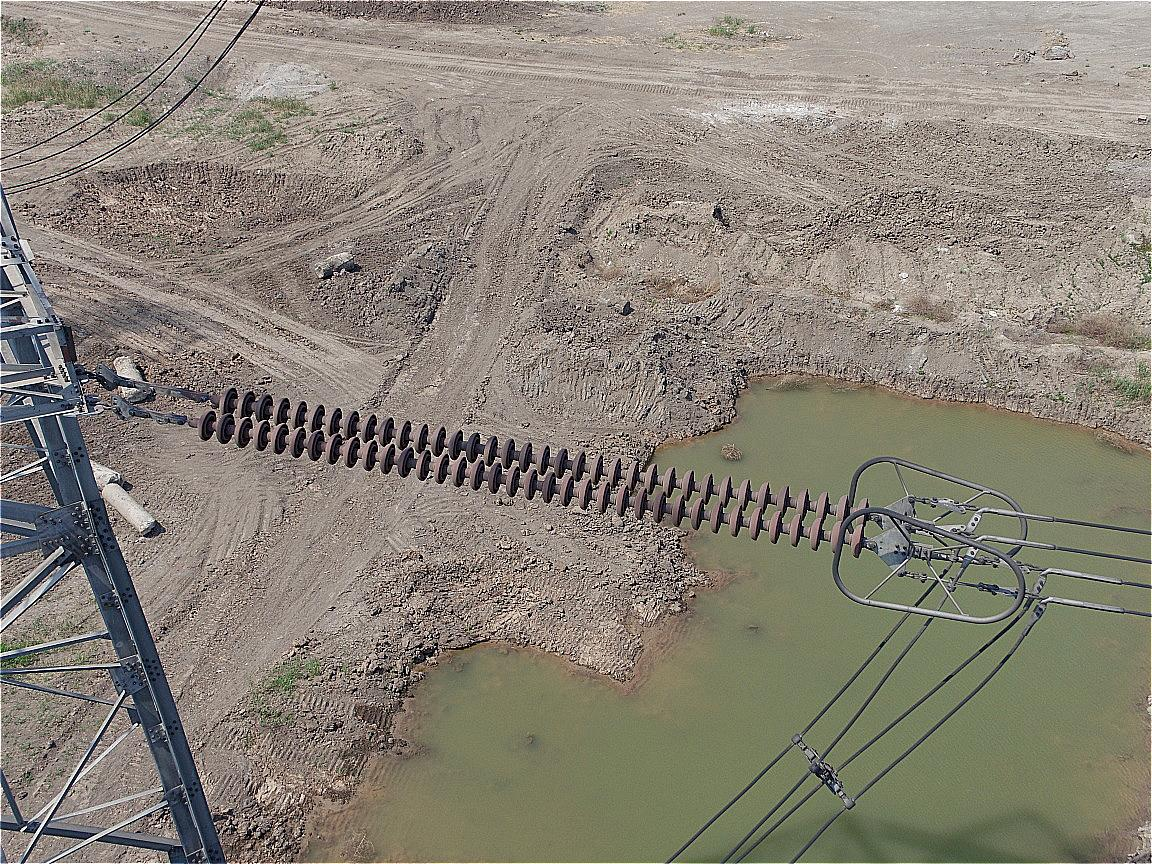insultor1: (198, 386, 871, 558)
